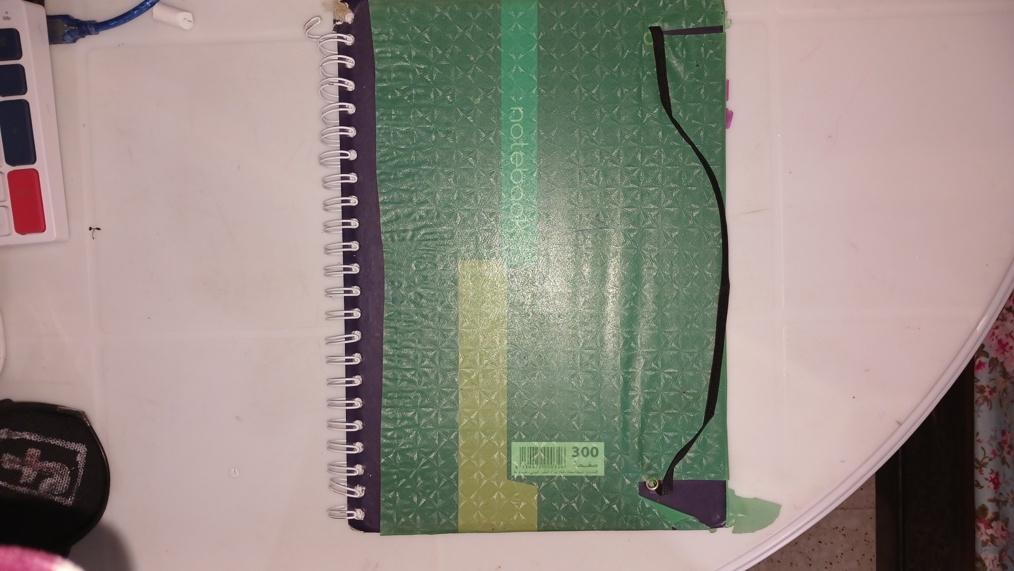notebook: (329, 2, 728, 534)
